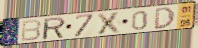0: (131, 10, 151, 31)
7: (74, 13, 96, 38)
B: (20, 18, 43, 43)
D: (154, 6, 177, 30)
R: (43, 16, 67, 41)
X: (96, 10, 123, 36)
